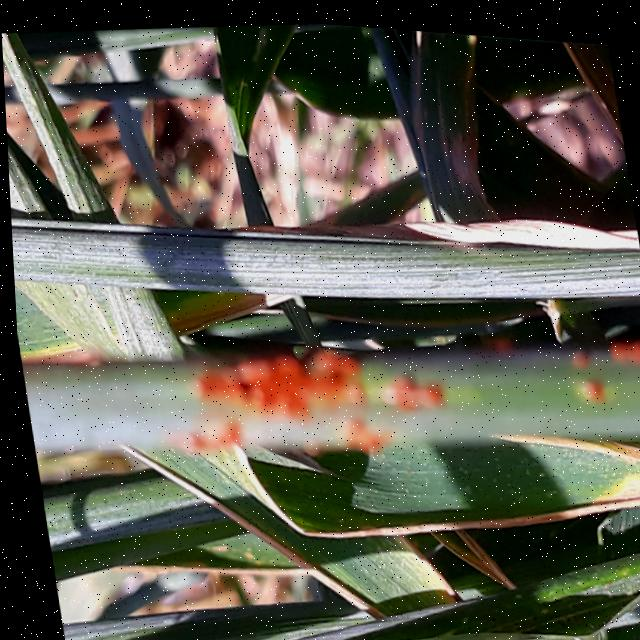black_stem_rust: (10, 238, 640, 531)
